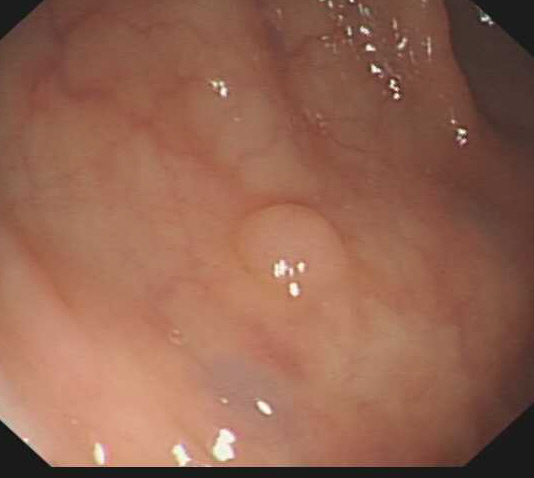adenoma: (229, 197, 351, 290)
